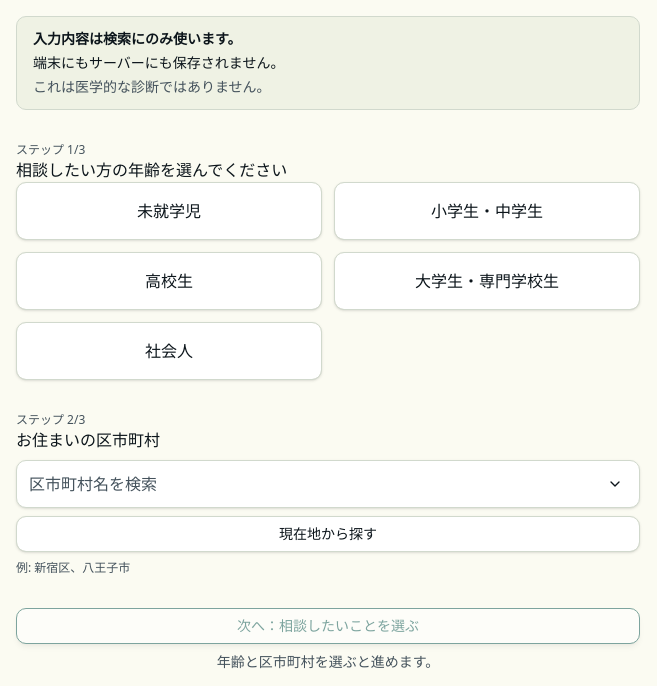
Test: SupportInputForm › 「現在地から探す」ボタンをクリックすると現在地を要求し、最寄り区市町村を自動選択する
(page scrolled)
Click the button "現在地から探す" at [328, 534], box [16,516,640,552]
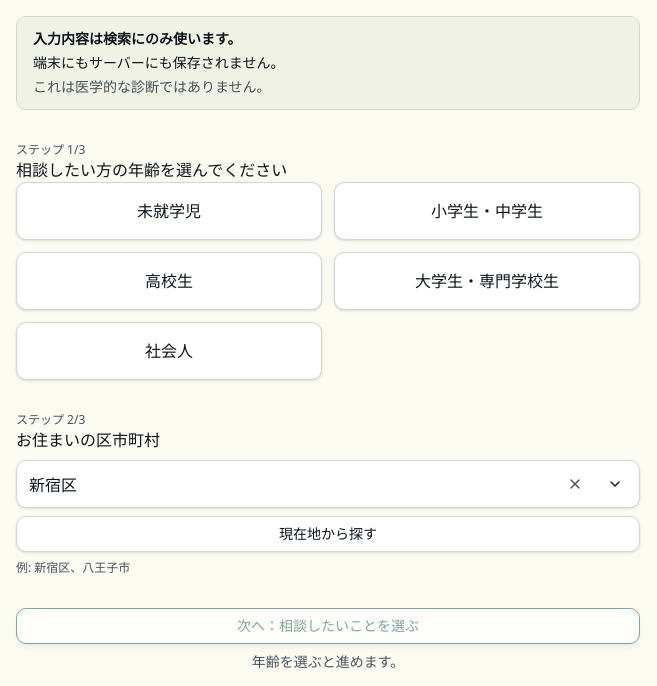
Result: the dropdown labelled "ステップ 2/3 お住まいの区市町村" holds "新宿区" at [17,461,639,507]
